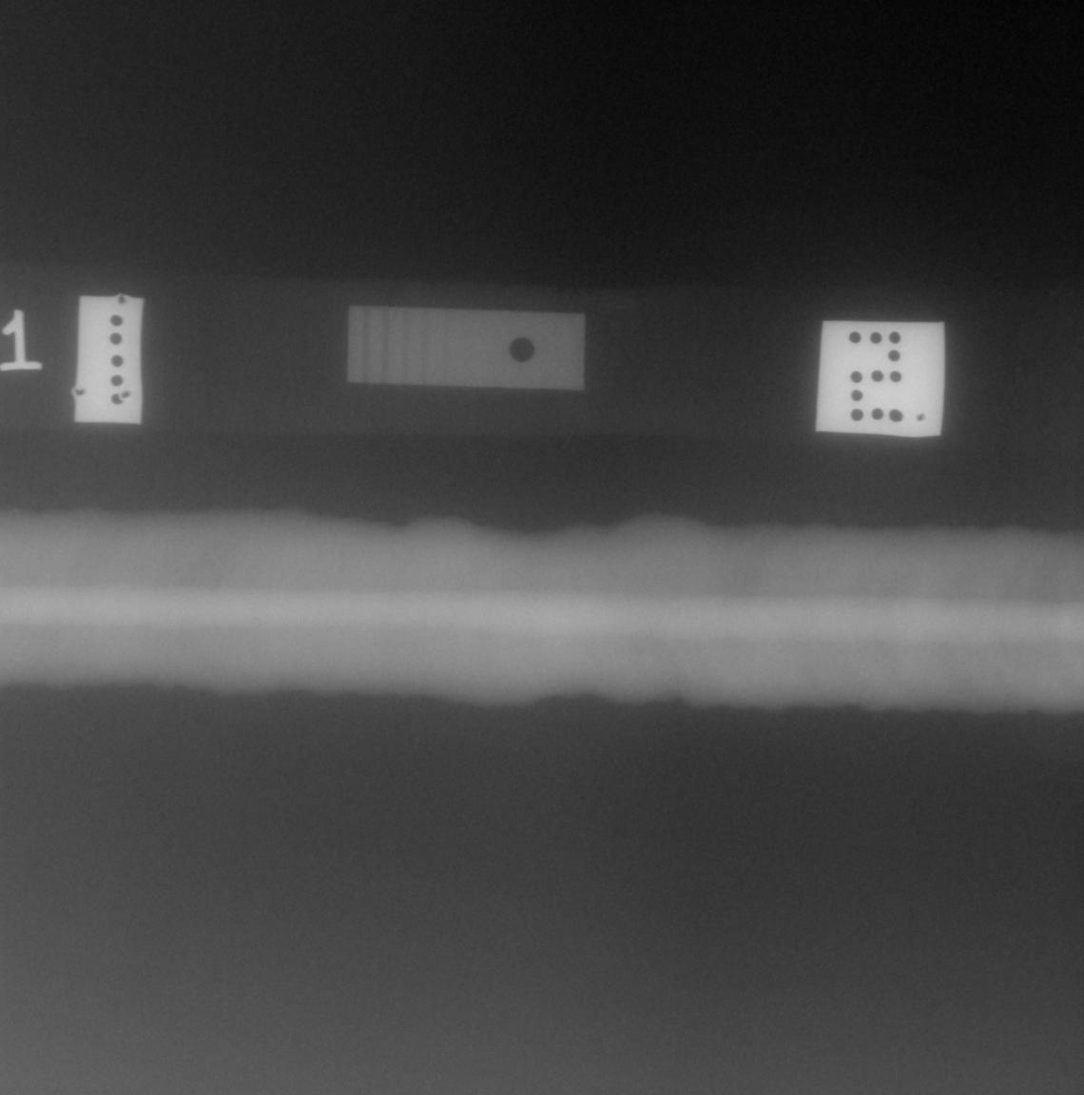Reference Standard 1: (348, 304, 585, 390)
